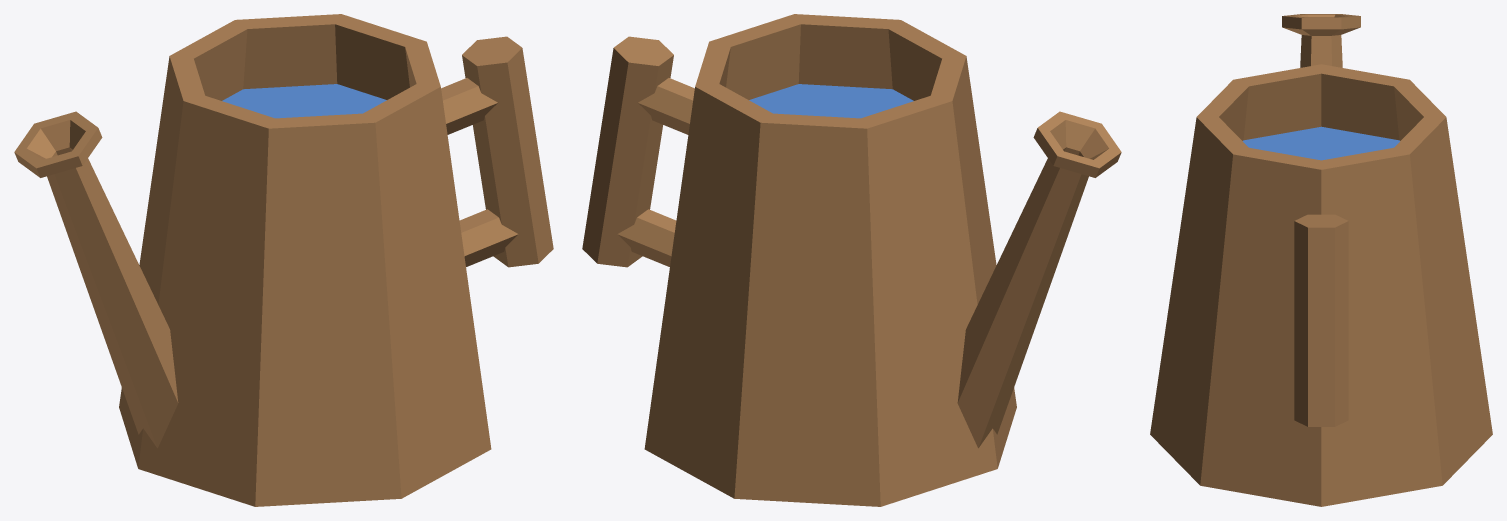
File: WateringKettle_01.fbx
3 renders of one model, left to right at view 1: azimuth 30°, elevation 25°; view 2: azimuth 150°, elevation 25°; view 3: azimuth 270°, elevation 25°, orthographic. The views are drawn at different scales.
Parts seen in each view (by area): view 1: WateringKettle_01; view 2: WateringKettle_01; view 3: WateringKettle_01.
Part boxes in pixels (bbox=[...]): WateringKettle_01: bbox=[14, 14, 553, 506]; WateringKettle_01: bbox=[582, 14, 1121, 506]; WateringKettle_01: bbox=[1150, 14, 1492, 506].
Size of the model in its own units: 150 by 99.62 by 96.2.
